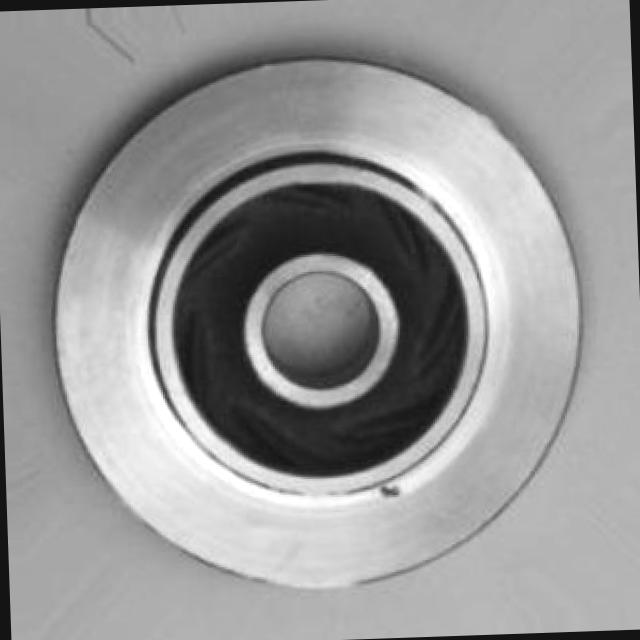Defect: (374, 474, 410, 505)
